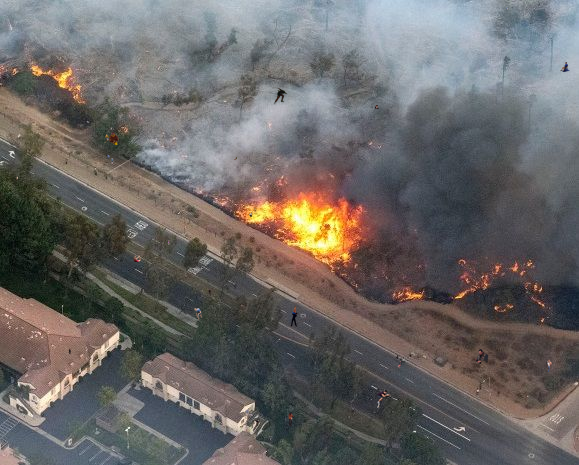Human: (364, 389, 391, 409), (272, 87, 293, 111), (472, 349, 489, 370), (104, 132, 119, 145), (290, 305, 298, 327), (287, 412, 295, 429), (194, 308, 202, 322), (560, 62, 570, 72), (245, 409, 253, 419), (546, 359, 552, 372), (249, 208, 257, 217), (133, 255, 141, 262), (397, 361, 402, 369), (105, 154, 110, 159), (255, 420, 259, 426), (111, 158, 114, 164), (375, 105, 379, 109), (69, 348, 71, 355), (168, 239, 170, 245), (526, 290, 529, 294), (16, 176, 18, 181), (429, 385, 431, 390), (234, 157, 237, 160), (506, 7, 509, 10)
